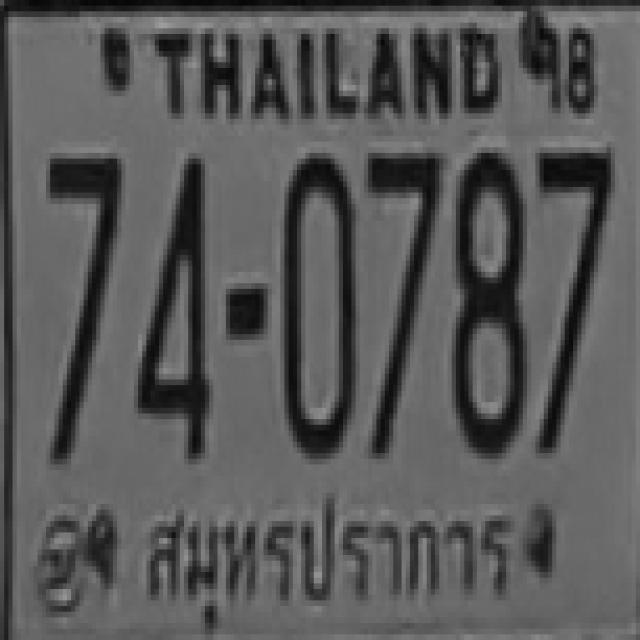0: (282, 150, 358, 460)
4: (134, 153, 214, 463)
7: (364, 144, 443, 458), (536, 147, 614, 455), (46, 153, 121, 467)
8: (448, 148, 528, 456)
SamutPrakan: (139, 488, 523, 631)
